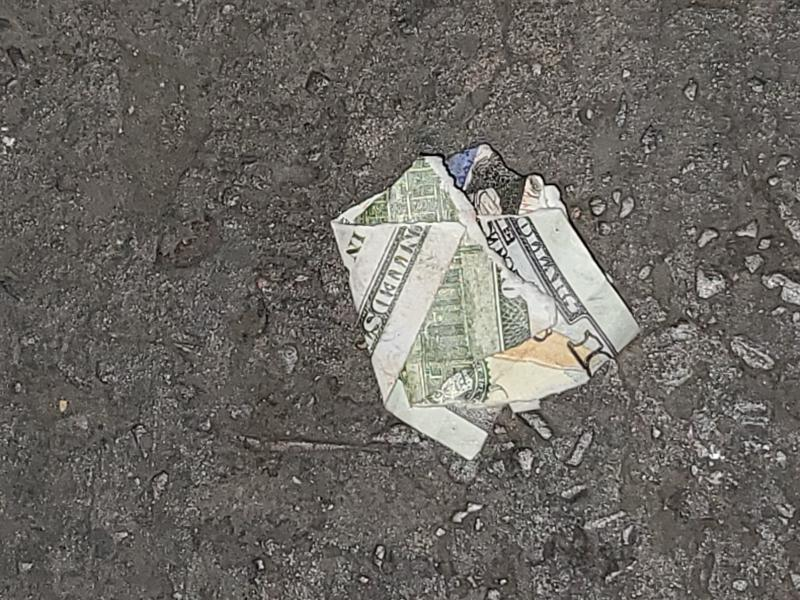papel: (329, 152, 640, 464)
